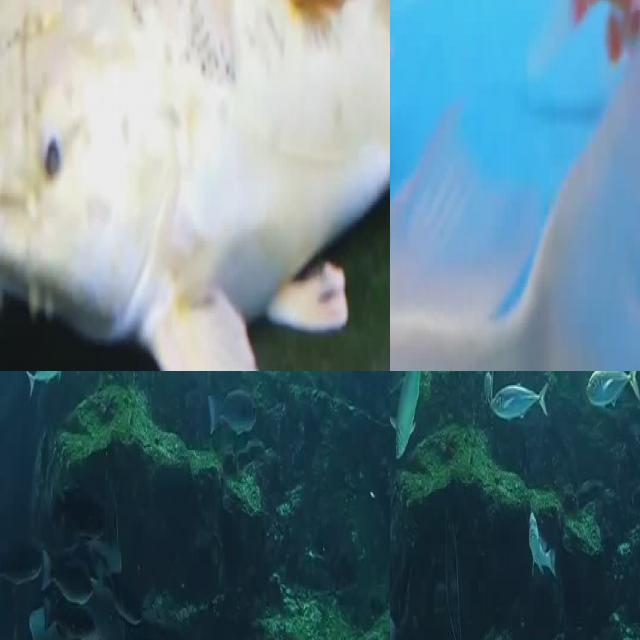fish: (0, 0, 390, 371), (390, 105, 640, 371)
